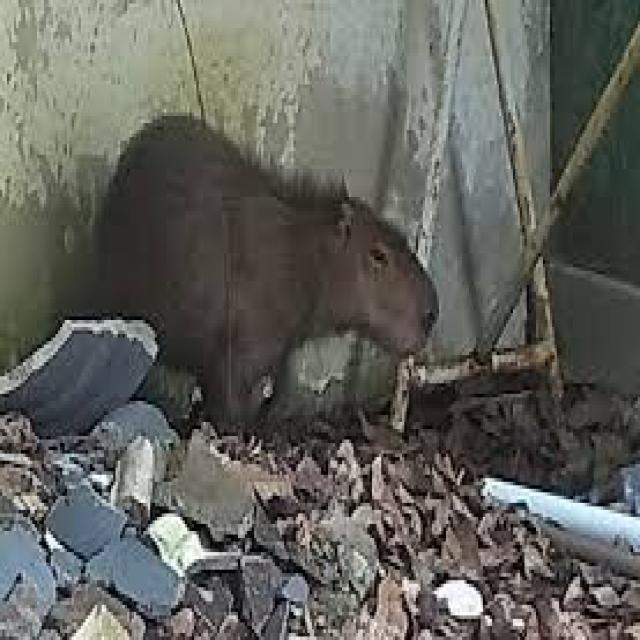capy: (95, 112, 439, 420)
